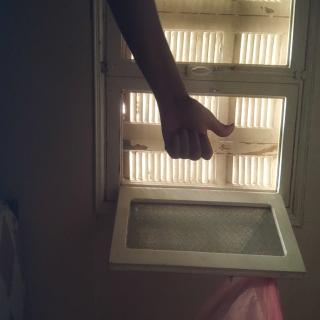ALIF: (68, 106, 124, 217)
